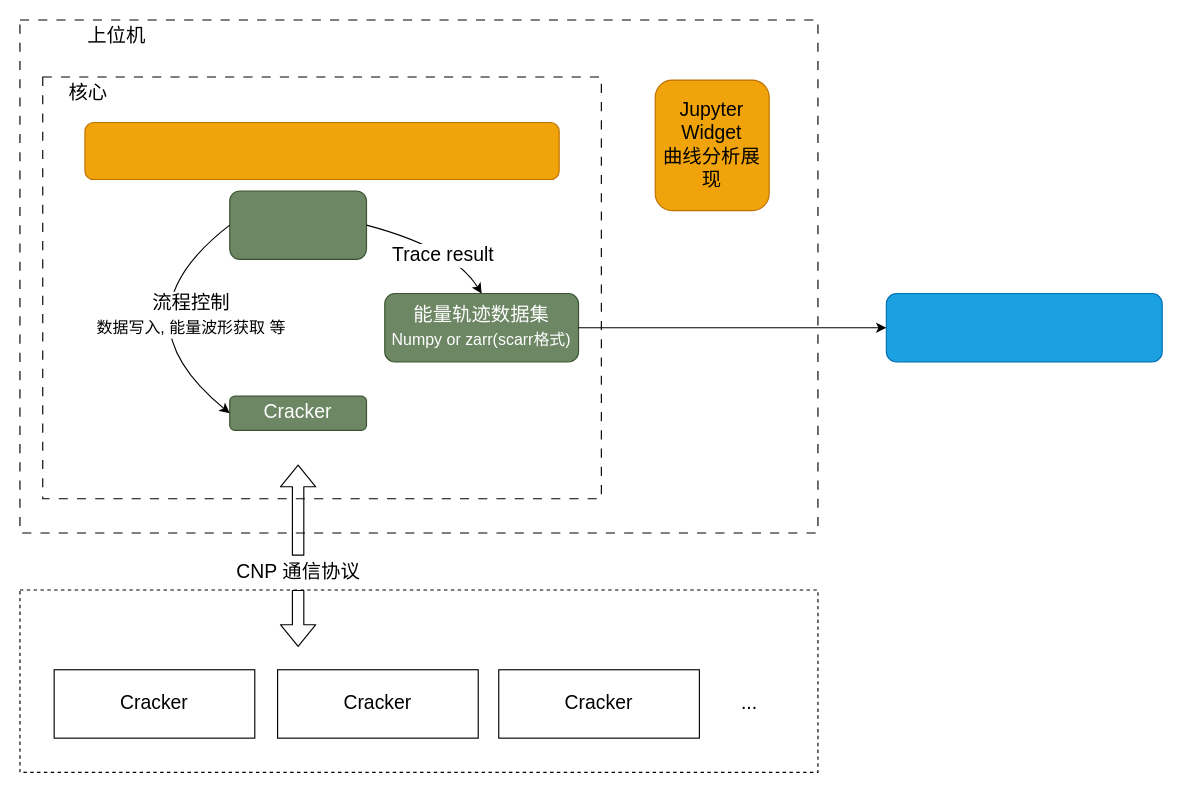
This 1182x792 diagram has some shape labels left out. The box of each missing label's shape, as (x1, y1, x2, y2) in pixels:
Jupyter Widget Cracker 控制面板, 波形面板: (84, 121, 559, 180)
Scarr分析框架 Side-Channel Analysis (SCA): (885, 292, 1162, 362)
采集器: (229, 190, 367, 259)
